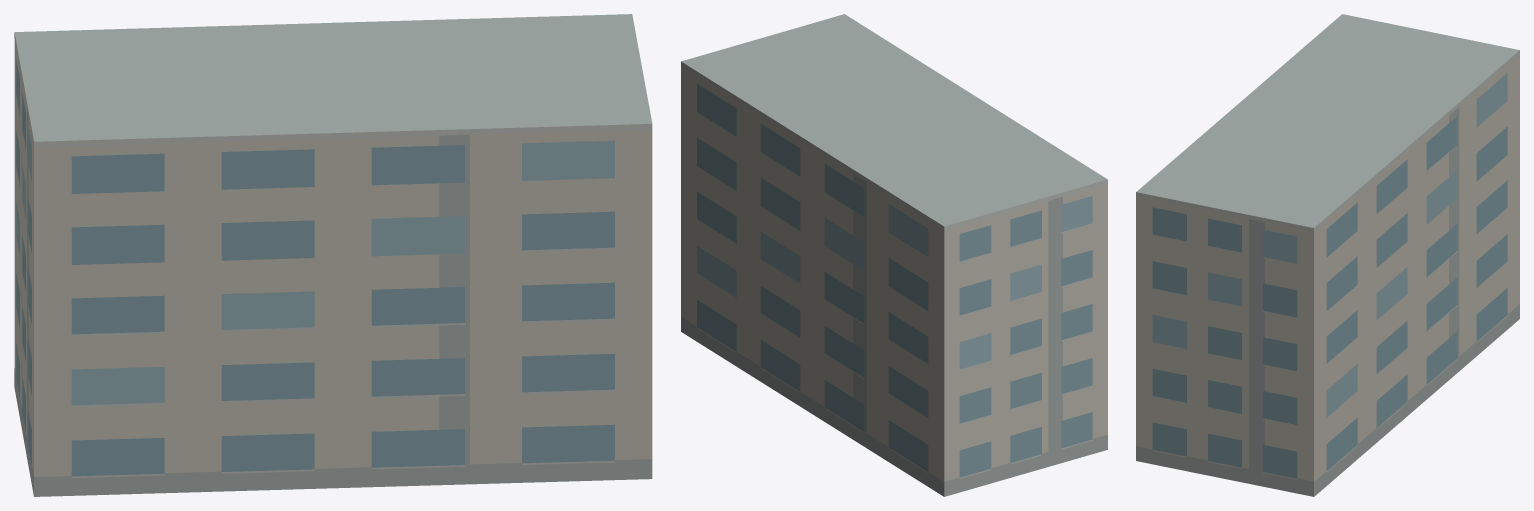
Rendered from survey-upis-32829126.glb.
3 views of the same model, side by side, from view 1: azimuth 30°, elevation 25°; view 2: azimuth 150°, elevation 25°; view 3: azimuth 270°, elevation 25° (orthographic). The views are drawn at different scales.
Visible parts, largest first — view 1: survey-upis-32829126.tmp; view 2: survey-upis-32829126.tmp; view 3: survey-upis-32829126.tmp.
Boxes of the visible parts, <box> form: survey-upis-32829126.tmp: <box>14,14,652,496</box>; survey-upis-32829126.tmp: <box>681,14,1107,496</box>; survey-upis-32829126.tmp: <box>1136,14,1519,496</box>.
Size of the model in its own units: 26.05 by 15.25 by 19.74.
